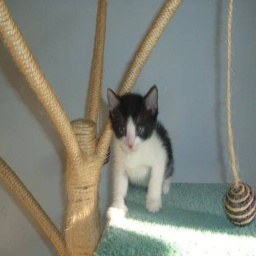cat: (106, 87, 174, 220)
